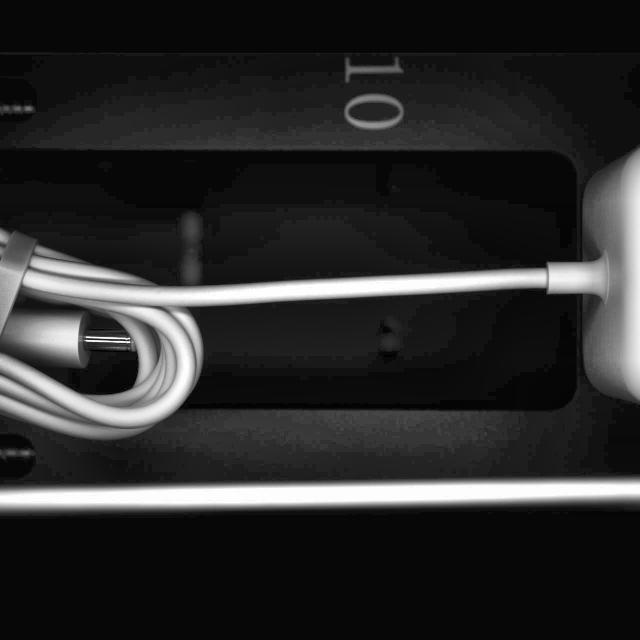Cable: (0, 145, 640, 446)
